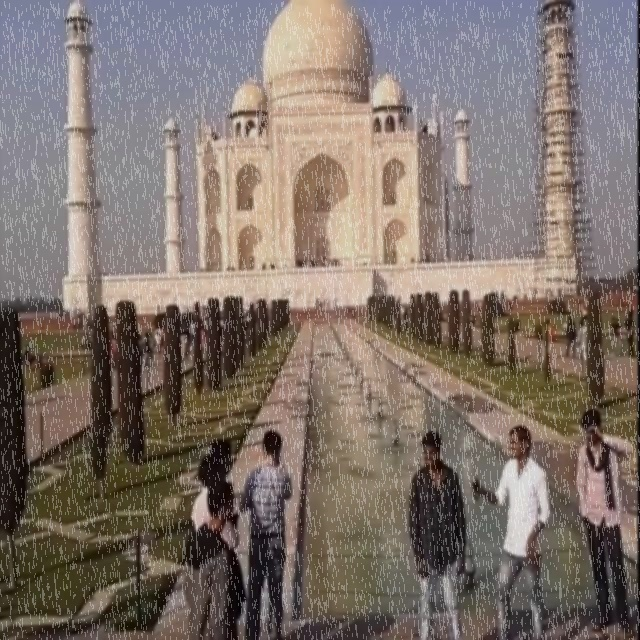pessoa: (472, 420, 552, 640), (574, 406, 636, 639), (406, 426, 468, 640), (238, 428, 294, 640), (180, 474, 238, 640), (190, 452, 220, 536), (607, 284, 638, 360), (576, 296, 590, 379), (138, 328, 166, 366), (52, 303, 96, 325), (208, 433, 232, 472), (19, 341, 41, 371), (486, 287, 509, 314), (540, 316, 554, 360), (564, 315, 576, 358), (314, 295, 340, 310), (109, 327, 118, 370), (180, 330, 192, 360), (292, 256, 318, 268), (200, 316, 208, 354), (78, 333, 94, 348), (218, 314, 224, 352), (242, 309, 250, 337), (409, 254, 431, 262), (200, 262, 213, 273), (466, 252, 478, 262), (238, 258, 244, 270)
